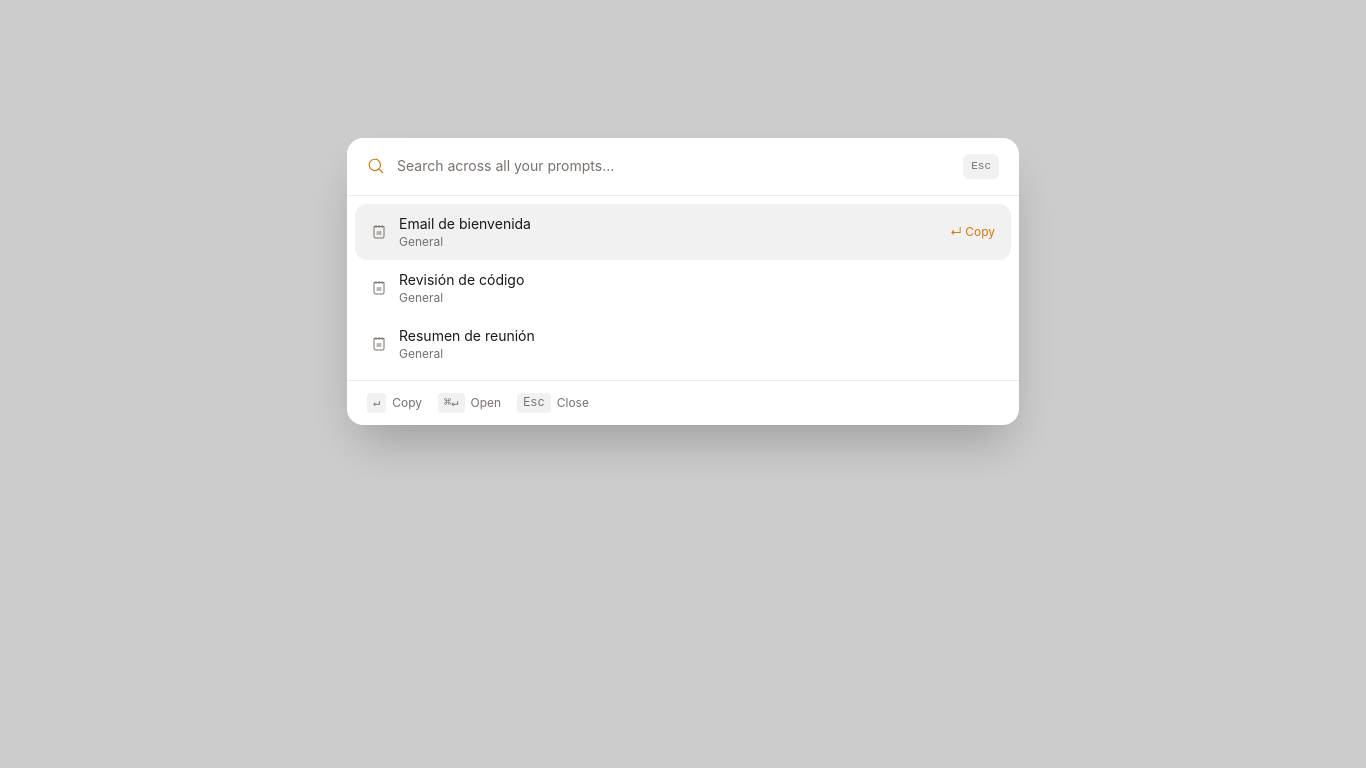
Test: SearchSpotlight › filtra prompts por contenido al escribir
The image size is (1366, 768).
Type "transcripción" into the field with placeholder "Search across all your prompts..." at (674, 166), box x1=397 y1=156 x2=951 y2=176
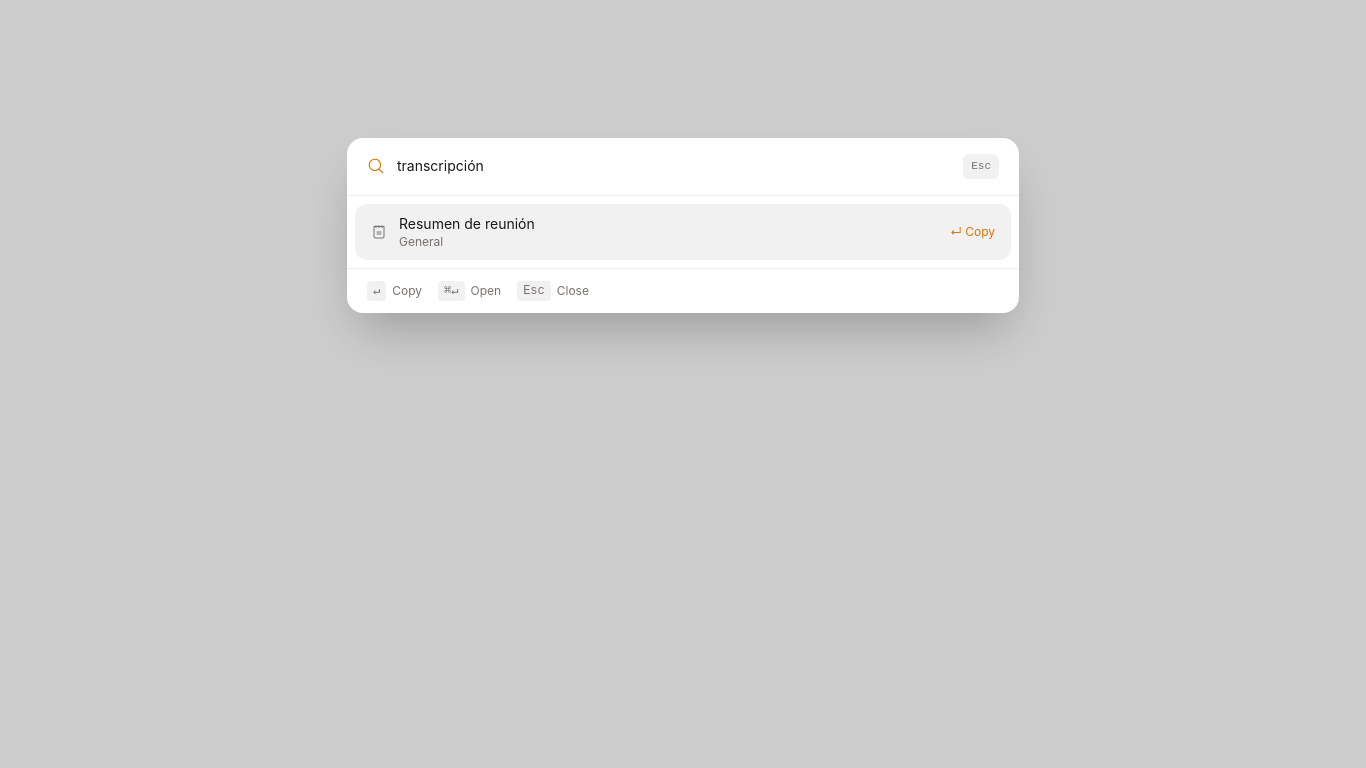
Expected: the text "Resumen de reunión" is shown, x1=399 y1=215 x2=535 y2=232
Expected: the text "Email de bienvenida" is gone
